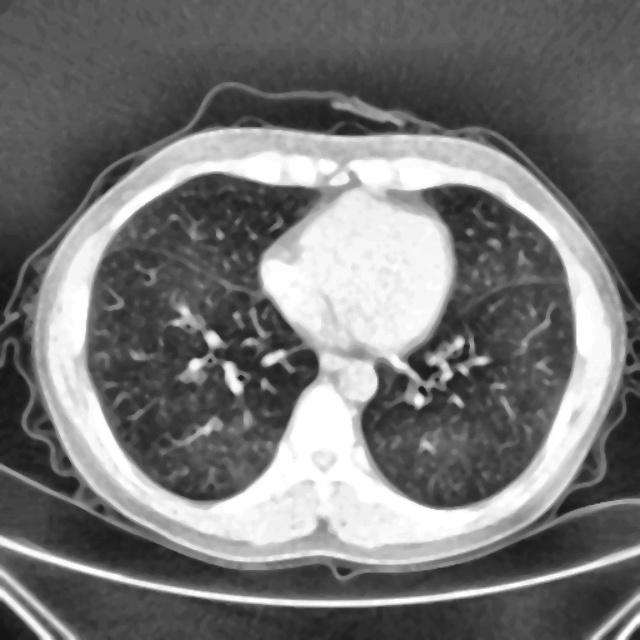covid: (3, 89, 636, 579)
